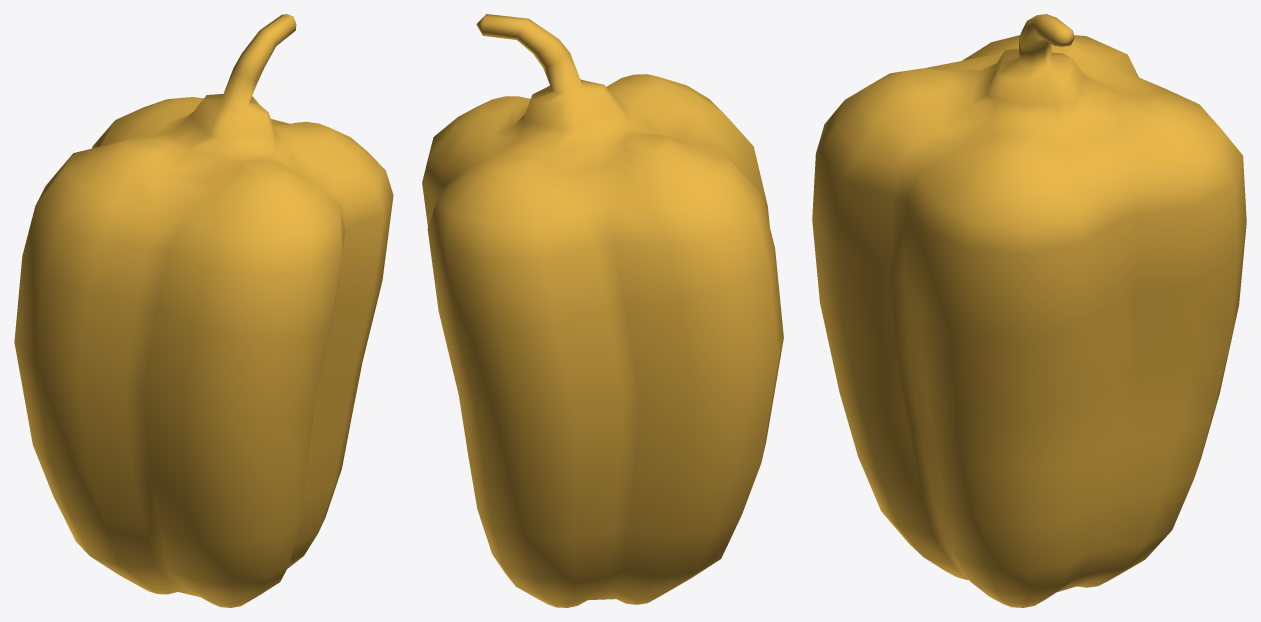
Rendered from peperone_giallo.fbx.
3 renders of one model, left to right at view 1: azimuth 30°, elevation 25°; view 2: azimuth 150°, elevation 25°; view 3: azimuth 270°, elevation 25°, orthographic. The views are drawn at different scales.
Visible parts, largest first — view 1: peperone_giallo; view 2: peperone_giallo; view 3: peperone_giallo.
Boxes of the visible parts, x1=… form: peperone_giallo: x1=14, y1=14, x2=393, y2=607; peperone_giallo: x1=422, y1=14, x2=783, y2=607; peperone_giallo: x1=812, y1=14, x2=1246, y2=607.
Bounding box in the file's own units: 266 × 403 × 263.
